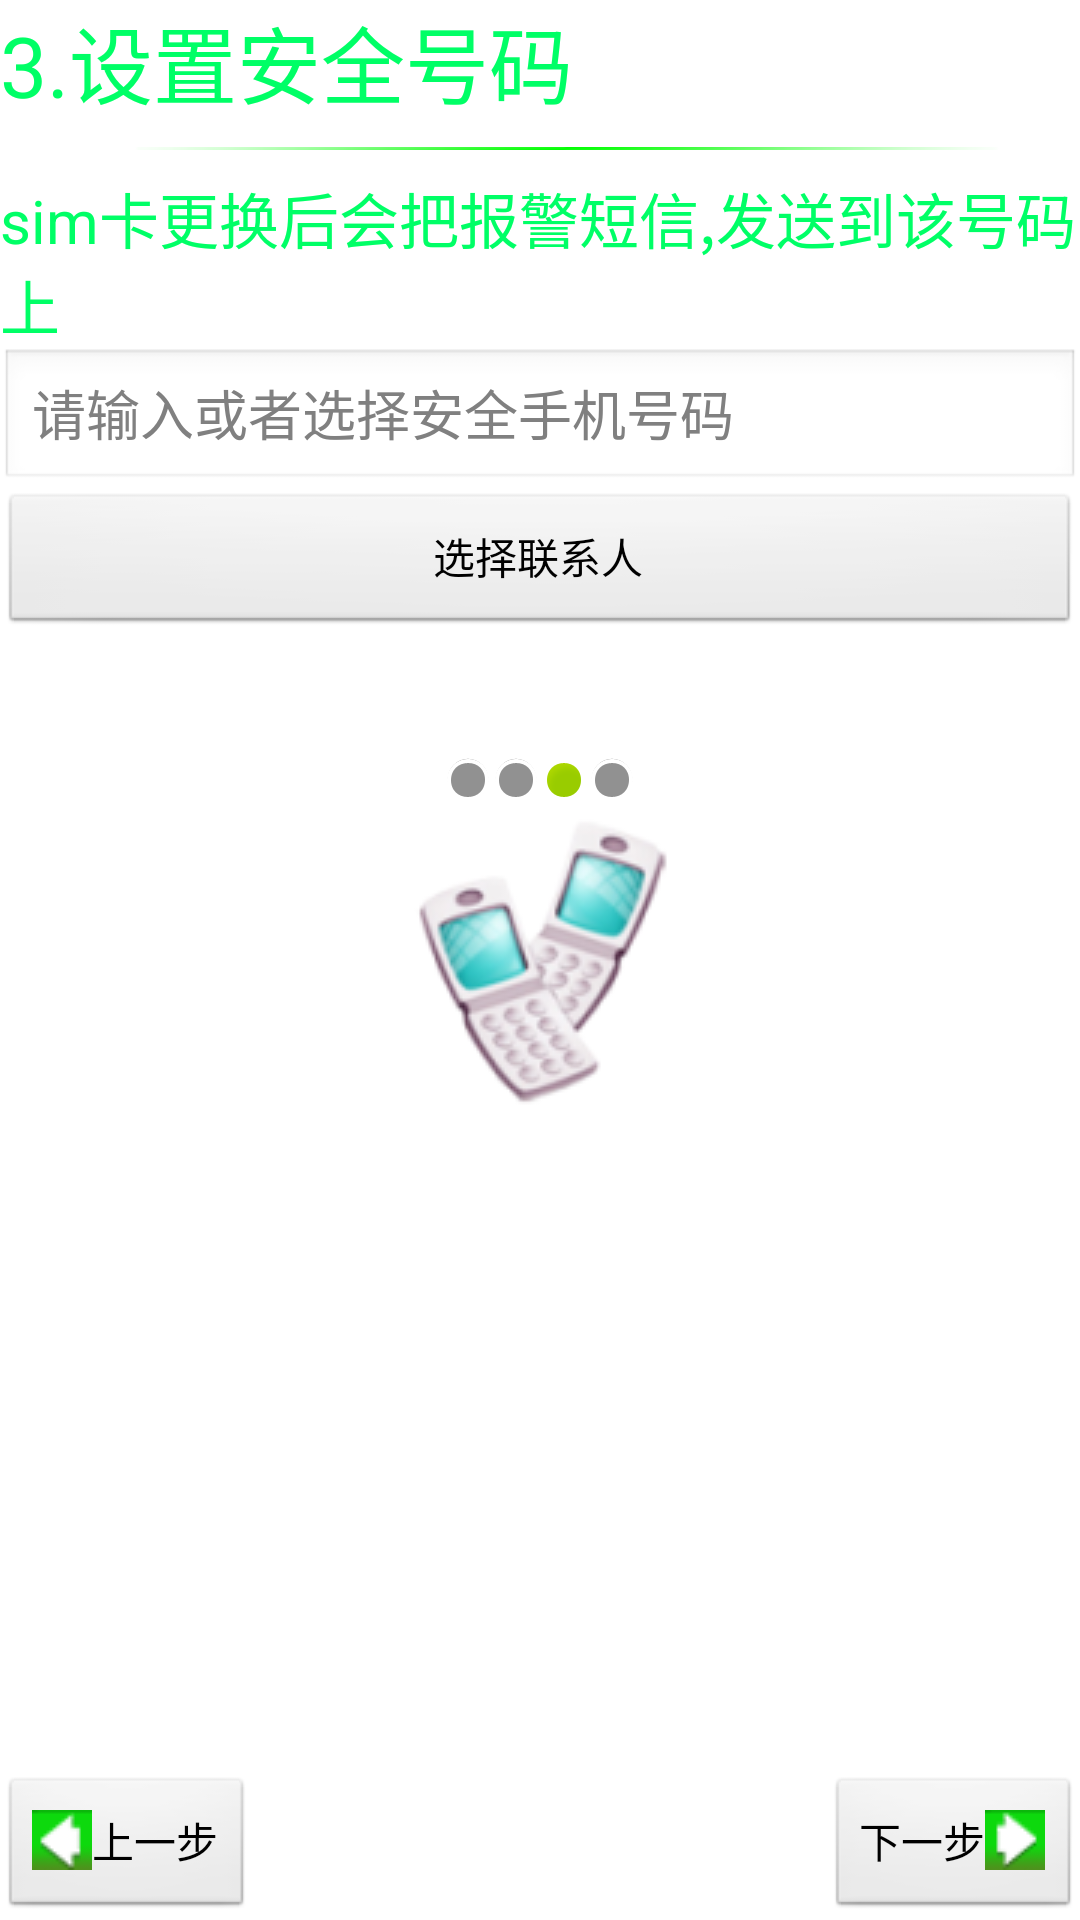

Icons on this 1080 x 1920 Android screen, each with its box as (x1,y1,x2,y2):
phone: (419,833,666,1102)
